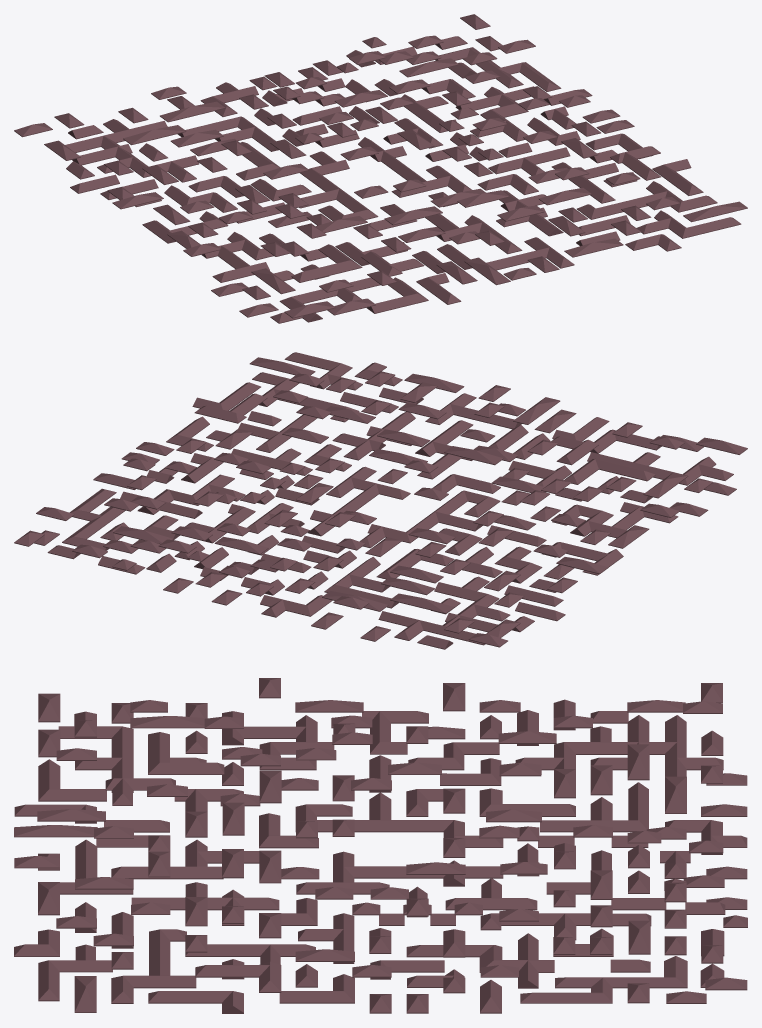
Rendered from Daken.fbx.
3 renders of one model, top to bottom at view 1: azimuth 30°, elevation 25°; view 2: azimuth 150°, elevation 25°; view 3: azimuth 270°, elevation 25°, orthographic. The views are drawn at different scales.
Visible parts, largest first — view 1: Cube.379, Cube.345, Cube.336, Cube.358, Cube.227, Cube.318, Cube.354, Cube.382, Cube.344, Cube.321, Cube.390, Cube.396 (+28 smaller); view 2: Cube.379, Cube.345, Cube.336, Cube.227, Cube.358, Cube.354, Cube.382, Cube.344, Cube.396, Cube.390, Cube.318, Cube.343 (+29 smaller); view 3: Cube.379, Cube.345, Cube.354, Cube.336, Cube.227, Cube.358, Cube.318, Cube.344, Cube.382, Cube.390, Cube.321, Cube.396 (+65 smaller).
Part boxes in pixels (x1,y1,x2,y2): Cube.379: (65, 119, 199, 182); Cube.345: (299, 151, 378, 220); Cube.336: (358, 137, 471, 197); Cube.358: (455, 86, 533, 141); Cube.227: (201, 232, 284, 282); Cube.318: (577, 181, 717, 219); Cube.354: (435, 47, 561, 91); Cube.382: (270, 277, 380, 323); Cube.344: (177, 116, 278, 151); Cube.321: (636, 210, 741, 238); Cube.390: (425, 214, 522, 254); Cube.396: (496, 190, 563, 236); Cube.379: (378, 576, 510, 645); Cube.345: (359, 490, 500, 548); Cube.336: (307, 466, 410, 536); Cube.227: (552, 502, 678, 538); Cube.358: (120, 474, 245, 518); Cube.354: (62, 488, 125, 550); Cube.382: (587, 452, 733, 485); Cube.344: (324, 557, 398, 608); Cube.396: (332, 411, 415, 460); Cube.390: (415, 420, 473, 479); Cube.318: (252, 372, 359, 422); Cube.343: (425, 393, 521, 429); Cube.379: (515, 715, 723, 776); Cube.345: (295, 792, 503, 847); Cube.354: (520, 956, 687, 1003); Cube.336: (296, 851, 503, 894); Cube.227: (222, 711, 334, 770); Cube.358: (406, 929, 554, 988); Cube.318: (111, 929, 196, 1003); Cube.344: (540, 782, 648, 832); Cube.382: (58, 711, 133, 792); Cube.390: (111, 839, 259, 879); Cube.321: (38, 944, 112, 1001); Cube.396: (131, 882, 279, 925).
Size of the model in its own units: 19175 by 964 by 19164.
